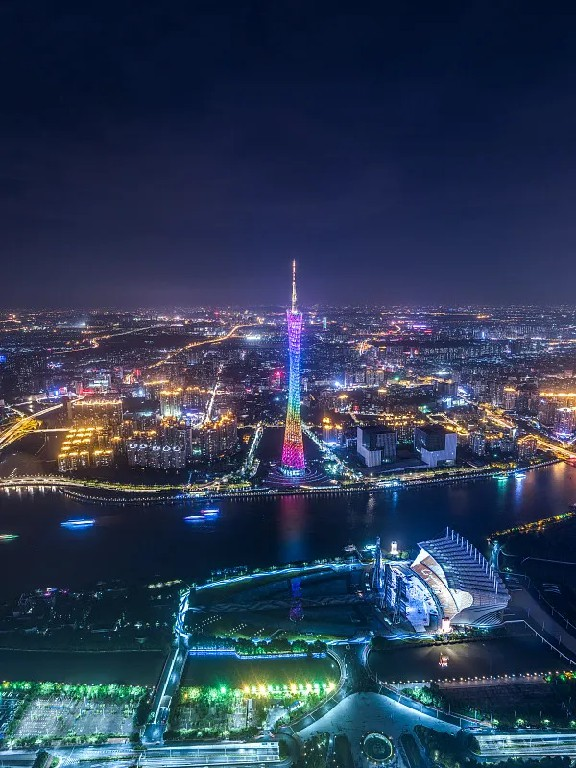Canton: (282, 259, 307, 476)
